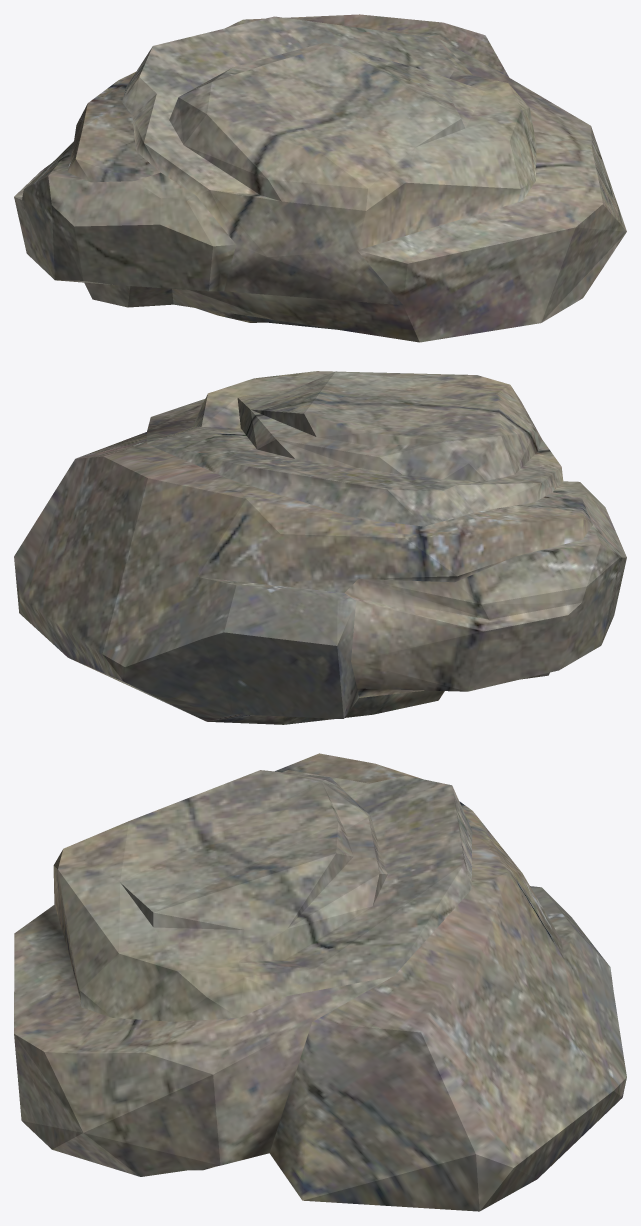
The model's file is bg_eud_stone_rock03_03_sm_old.FBX.
The picture shows the model from 3 angles, top to bottom: view 1: azimuth 30°, elevation 25°; view 2: azimuth 150°, elevation 25°; view 3: azimuth 270°, elevation 25°; orthographic projection. The views are drawn at different scales.
Visible parts, largest first — view 1: bg_eud_stone_rock03_03_sm_old; view 2: bg_eud_stone_rock03_03_sm_old; view 3: bg_eud_stone_rock03_03_sm_old.
Boxes of the visible parts, x1,y1,x2,y2 form: bg_eud_stone_rock03_03_sm_old: (14,14,626,342); bg_eud_stone_rock03_03_sm_old: (14,371,626,724); bg_eud_stone_rock03_03_sm_old: (14,753,626,1211).
Bounding box in the file's own units: 292 × 124 × 257.
